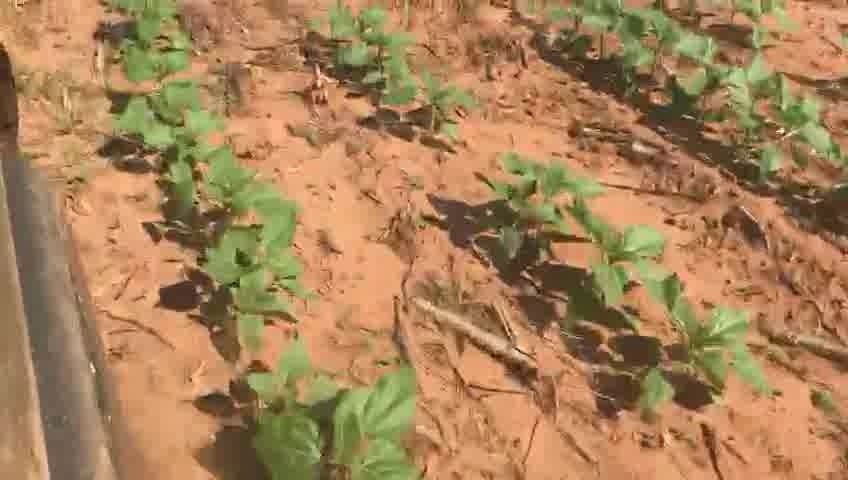sunflower: (231, 347, 424, 476), (193, 204, 320, 349), (502, 201, 663, 315), (635, 273, 766, 413), (155, 143, 304, 217), (493, 148, 607, 236), (110, 81, 241, 154), (751, 85, 838, 189), (379, 47, 472, 130), (96, 10, 193, 86), (709, 57, 781, 145), (654, 32, 725, 120), (324, 9, 414, 75), (610, 8, 683, 84)
